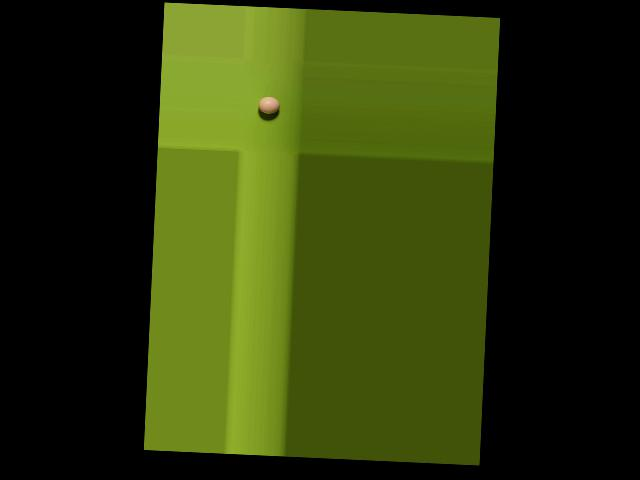egg: (258, 97, 281, 114)
